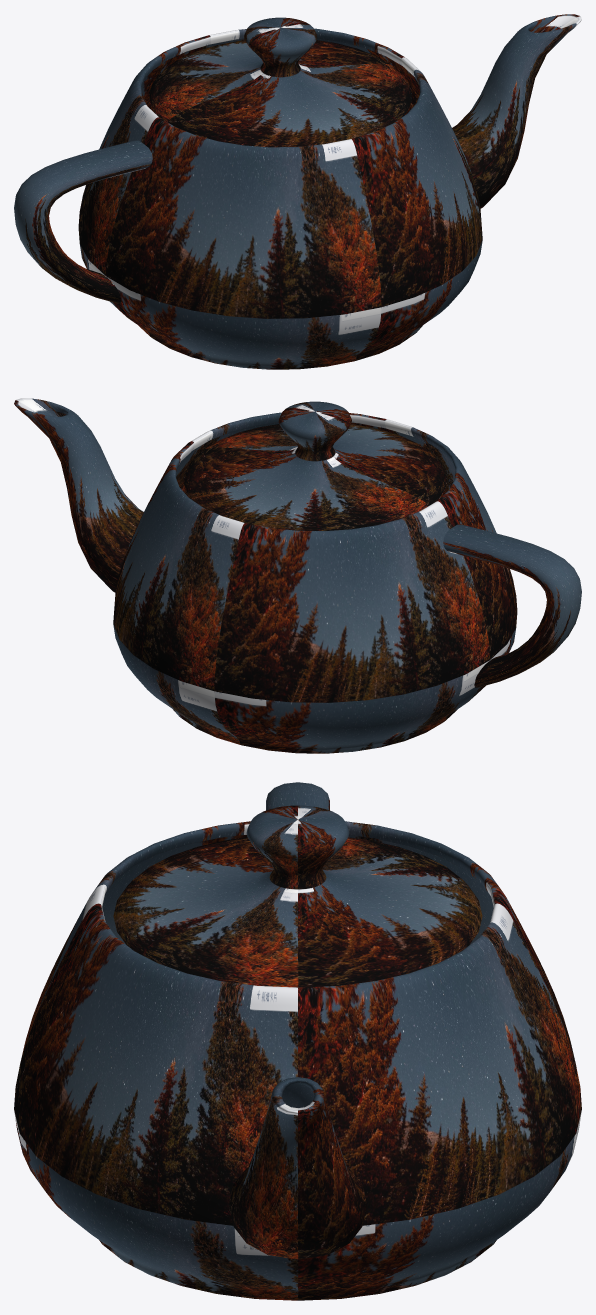
3 views of the same model, one above another, from view 1: azimuth 30°, elevation 25°; view 2: azimuth 150°, elevation 25°; view 3: azimuth 270°, elevation 25° (orthographic). The views are drawn at different scales.
Parts seen in each view (by area): view 1: Teapot001; view 2: Teapot001; view 3: Teapot001.
Part boxes in pixels (left/top/right/bottom): Teapot001: left=14, top=14, right=581, bottom=369; Teapot001: left=14, top=398, right=581, bottom=753; Teapot001: left=14, top=782, right=581, bottom=1300.
Bounding box in the file's own units: 118 × 57.54 × 73.06.
1 material, 1 textured.
